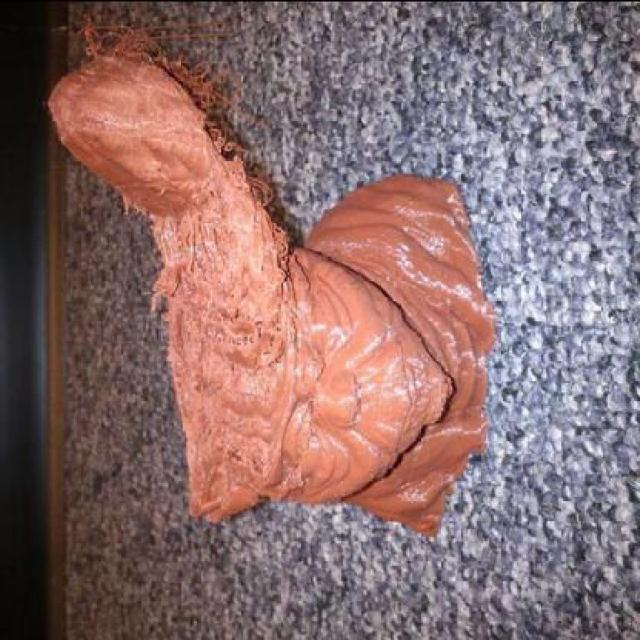spaghetti: (46, 15, 288, 517)
